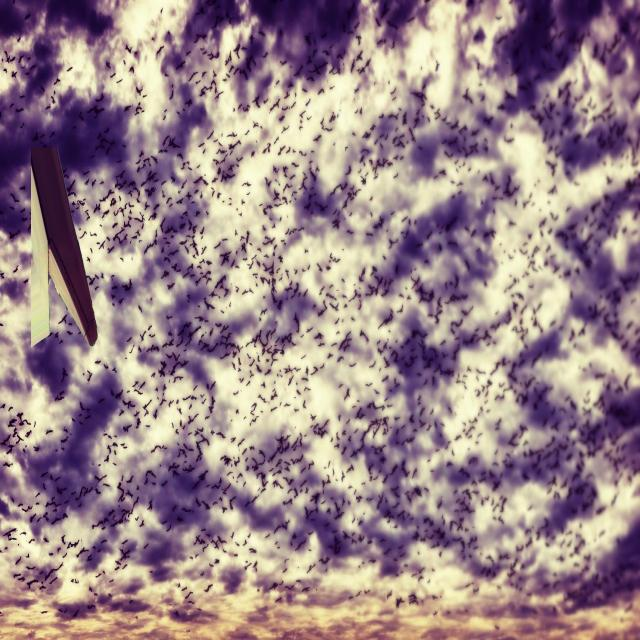airplane: (28, 144, 98, 348)
